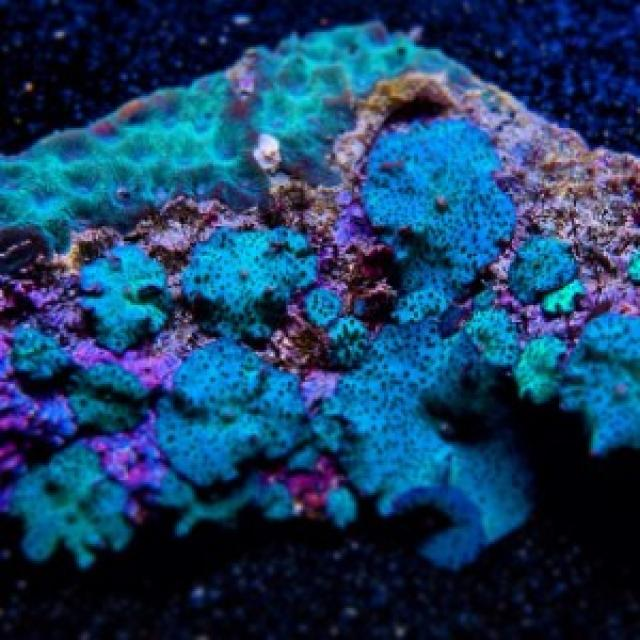Coral: (0, 20, 640, 568)
